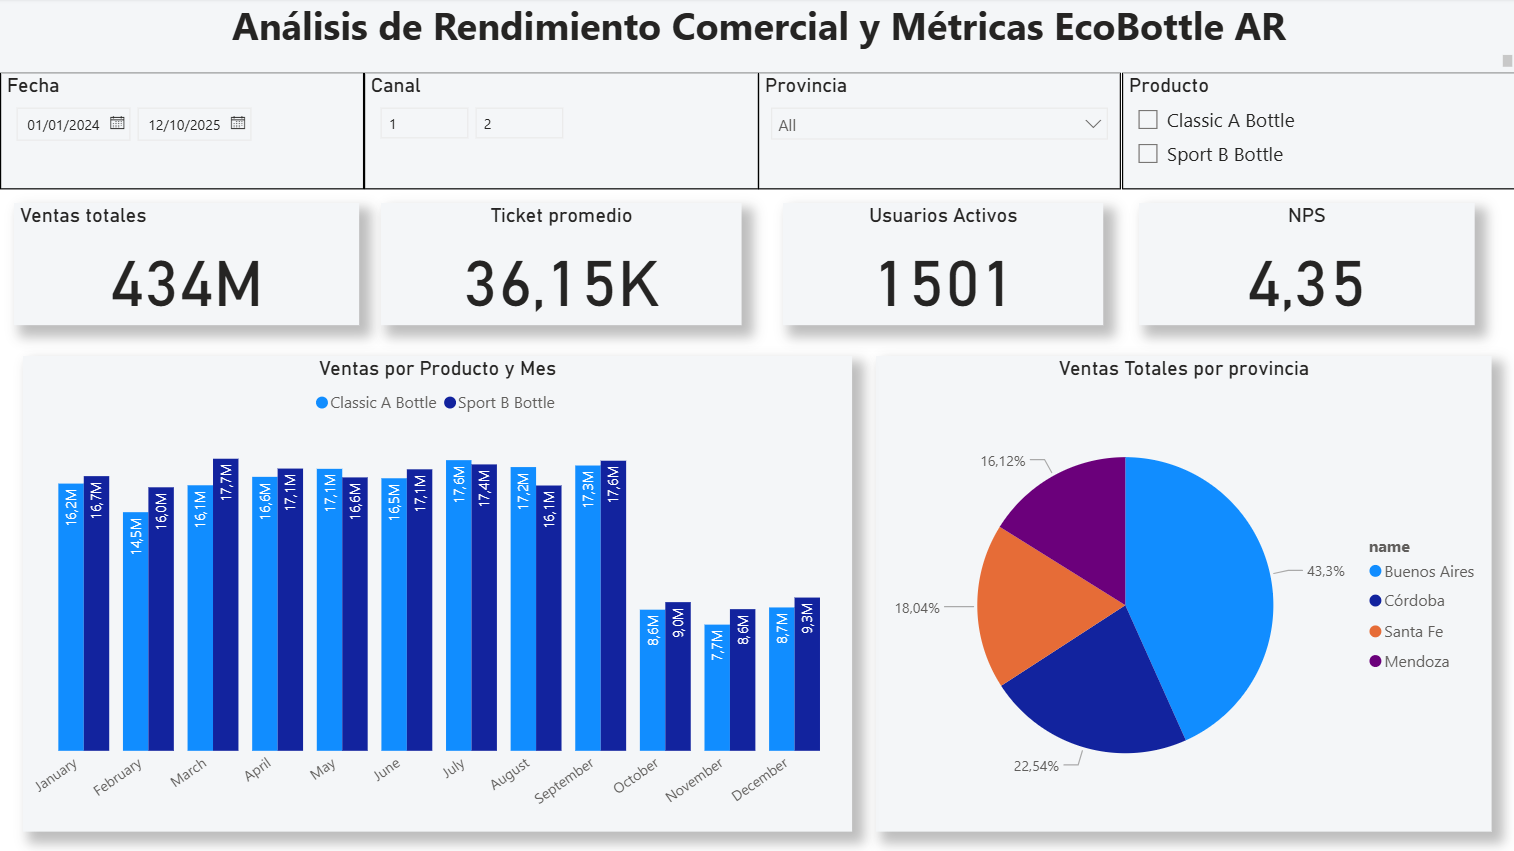

This screenshot's page, from the dashboard's own definition file:
{"tool":"powerbi","page":{"name":"Página 1","canvas":[1280,720],"ordinal":0},"visuals":[{"type":"slicer","title":"Fecha","fields":{"Values":["dim_date.date"]},"box":[0,62.7,307.2,99.4],"z":0},{"type":"slicer","title":"Canal","fields":{"Values":["dim_channel.channel_id"]},"box":[307.2,62.7,333.1,99.4],"z":1000},{"type":"slicer","title":"Provincia","fields":{"Values":["dim_province.name"]},"box":[639.4,62.7,306.3,99.4],"z":2000},{"type":"slicer","title":"Producto","fields":{"Values":["dim_product.product_name"]},"box":[945.7,62.7,334,99.4],"z":3000},{"type":"card","title":"Ventas totales","fields":{"Values":["fact_sales_order.Ventas Totales"]},"box":[11.6,172.8,291,103],"z":4000},{"type":"card","title":"Ticket promedio","fields":{"Values":["fact_sales_order.Ticket Promedio"]},"box":[321.5,172.8,304.5,103],"z":5000},{"type":"card","title":"Usuarios Activos ","fields":{"Values":["fact_web_session.Usuarios Activos"]},"box":[660,172.8,270.4,103],"z":6000},{"type":"pieChart","title":"Ventas Totales por provincia","fields":{"Y":["fact_sales_order.Ventas Totales"],"Category":["dim_province.name"]},"box":[738.8,301.8,519.4,401.2],"z":7000},{"type":"clusteredColumnChart","title":"Ventas por Producto y Mes","fields":{"Category":["dim_date.month_name"],"Series":["dim_product.product_name"],"Y":["fact_sales_order_item.Ventas x Producto (Ítems)"]},"box":[19.7,301.8,699.4,401.2],"z":8000},{"type":"card","title":"NPS","fields":{"Values":["fact_nps_response.NPS"]},"box":[960,172.8,283,103],"z":9000},{"type":"textbox","title":"Análisis de Rendimiento Comercial y Métricas EcoBottle AR","box":[0,0,1279.7,62.7],"z":9001}]}

Visuals, with their boxes in screenshot pixels (x1, y1, x2, y2), scaled from the page's 1280x720 canvas onto the 1514x851 screenshot:
"Fecha" slicer: (0, 74, 363, 192)
"Canal" slicer: (363, 74, 757, 192)
"Provincia" slicer: (756, 74, 1119, 192)
"Producto" slicer: (1119, 74, 1513, 192)
"Ventas totales" card: (14, 204, 358, 326)
"Ticket promedio" card: (380, 204, 740, 326)
"Usuarios Activos " card: (781, 204, 1100, 326)
"Ventas Totales por provincia" pieChart: (874, 357, 1488, 831)
"Ventas por Producto y Mes" clusteredColumnChart: (23, 357, 851, 831)
"NPS" card: (1136, 204, 1470, 326)
"Análisis de Rendimiento Comercial y Métricas EcoBottle AR" textbox: (0, 0, 1513, 74)
